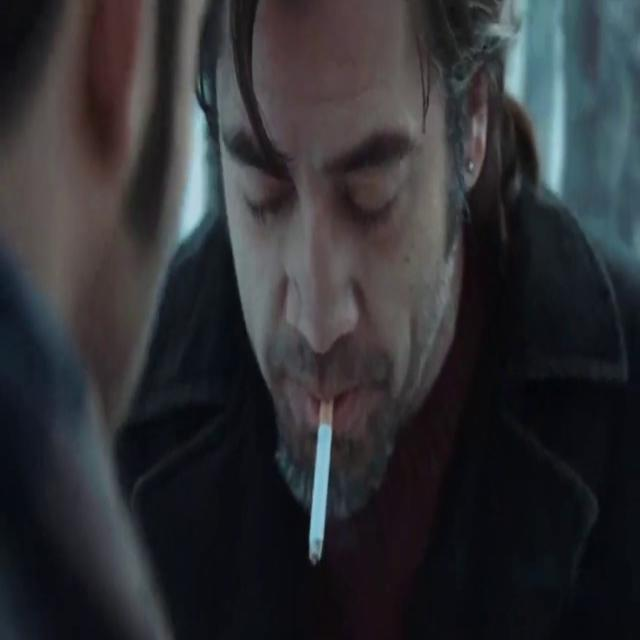Smooking: (308, 399, 336, 585)
